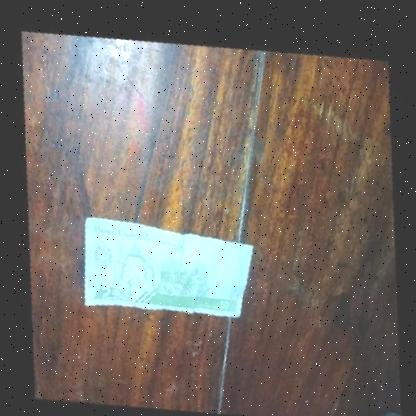fifty-back-vef: (72, 204, 254, 336)
